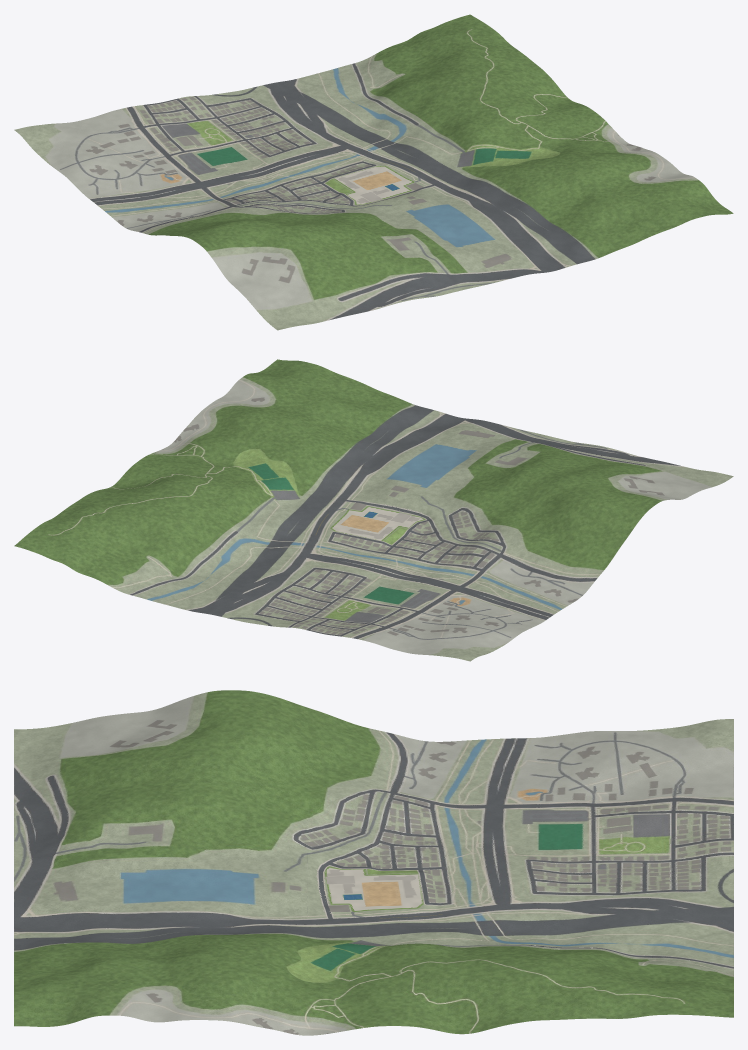
The picture shows the model from 3 angles, top to bottom: view 1: azimuth 30°, elevation 25°; view 2: azimuth 150°, elevation 25°; view 3: azimuth 270°, elevation 25°; orthographic projection. The views are drawn at different scales.
Visible parts, largest first — view 1: ground-area, ground-school; view 2: ground-area, ground-school; view 3: ground-area, ground-school.
Boxes of the visible parts, box(x1,y1,x2,y2) form: ground-area: box(14, 14, 733, 330); ground-school: box(302, 157, 441, 209); ground-area: box(14, 359, 733, 661); ground-school: box(305, 494, 444, 554); ground-area: box(14, 690, 733, 1035); ground-school: box(307, 853, 442, 921).
Bounding box in the file's own units: 1088 × 93.47 × 1088.
Materials: 2 (2 with a texture image).
